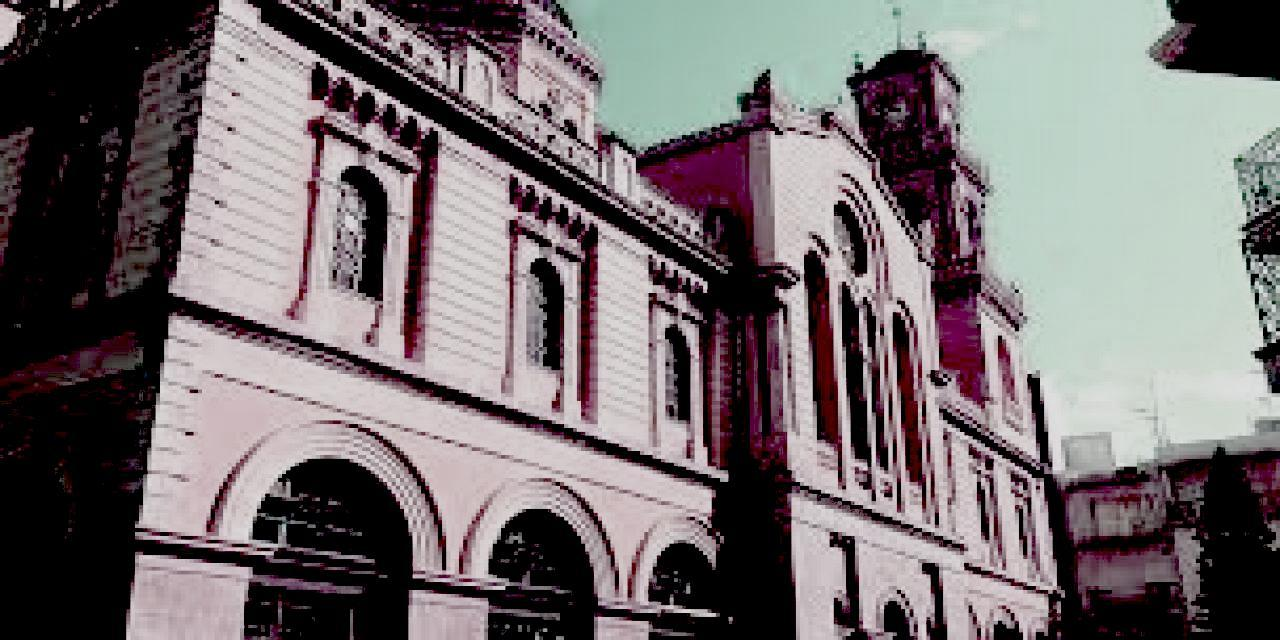Agios Minas: (3, 4, 1084, 640)
